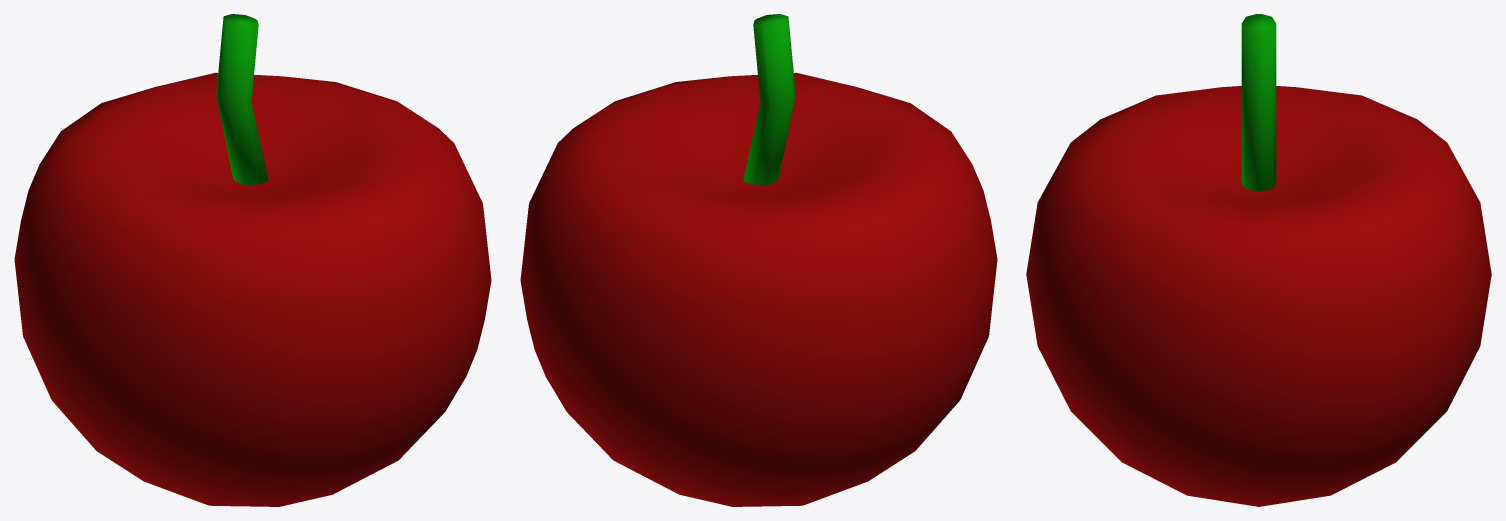
Rendered from Tomat.fbx.
3 views of the same model, side by side, from view 1: azimuth 30°, elevation 25°; view 2: azimuth 150°, elevation 25°; view 3: azimuth 270°, elevation 25° (orthographic). The views are drawn at different scales.
Parts seen in each view (by area): view 1: Tomat; view 2: Tomat; view 3: Tomat.
Part boxes in pixels (x1,y1,x2,y2): Tomat: [14, 14, 491, 506]; Tomat: [520, 14, 997, 506]; Tomat: [1026, 14, 1491, 506].
Size of the model in its own units: 32.49 by 35.31 by 32.49.
